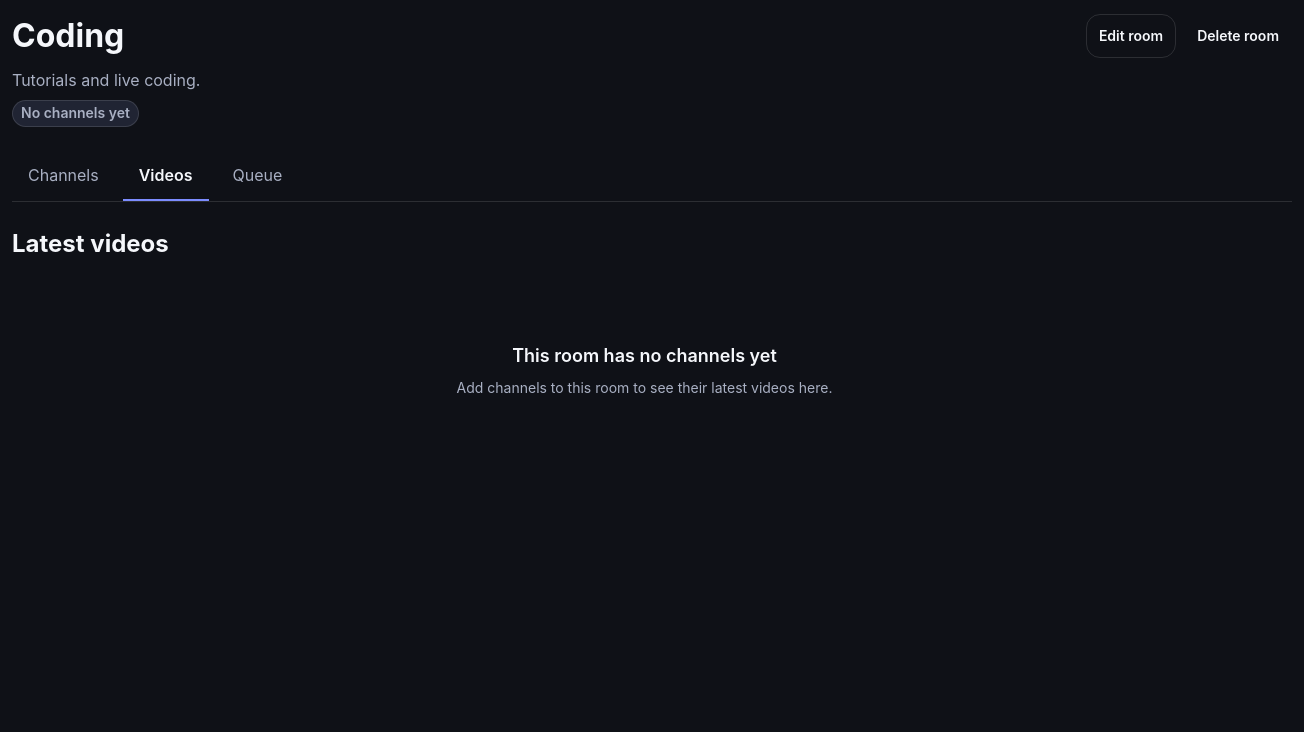
Test case: RoomDetailPage › shows category tags under a channel derived from its synced videos
Click the tab "Channels". click: (63, 176)
box: [12,151,115,201]
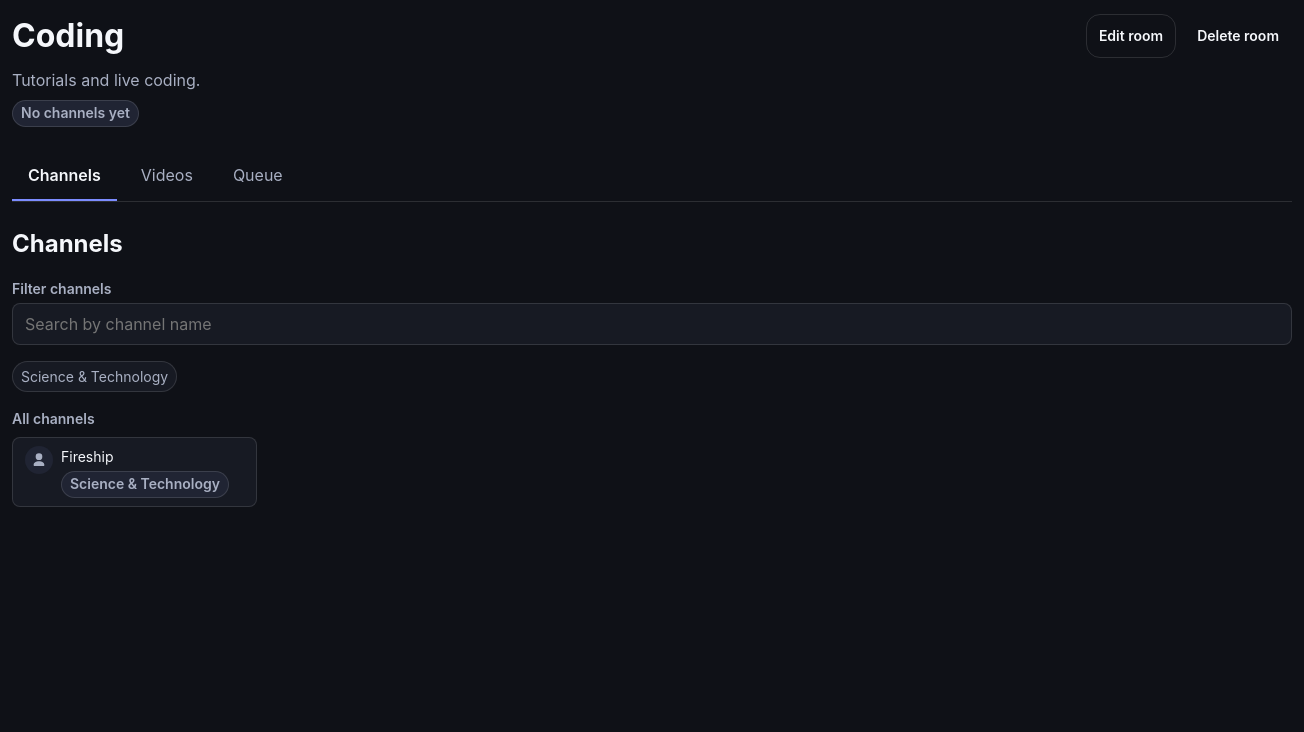
Result: the button "Science & Technology" is shown at [12,361,177,392]
Result: the checkbox labelled "Fireship" is shown at [25,446,229,498]
